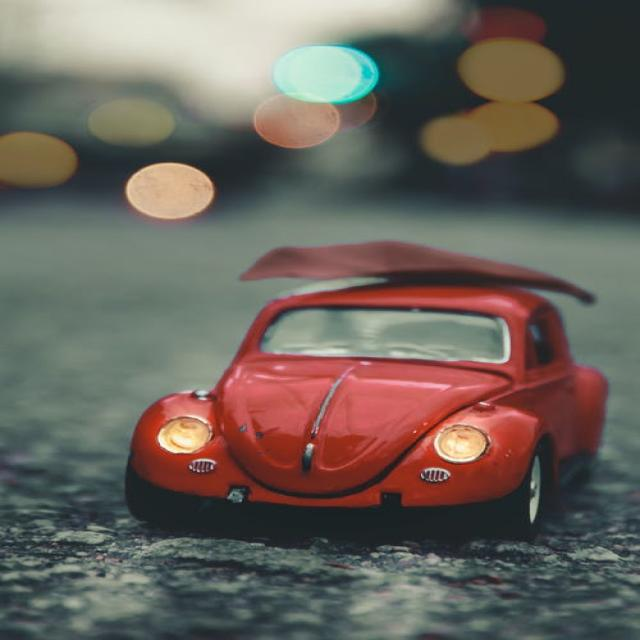Car: (123, 239, 609, 539)
